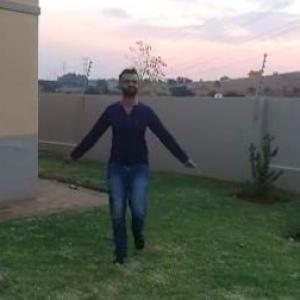land: (80, 81, 184, 230)
